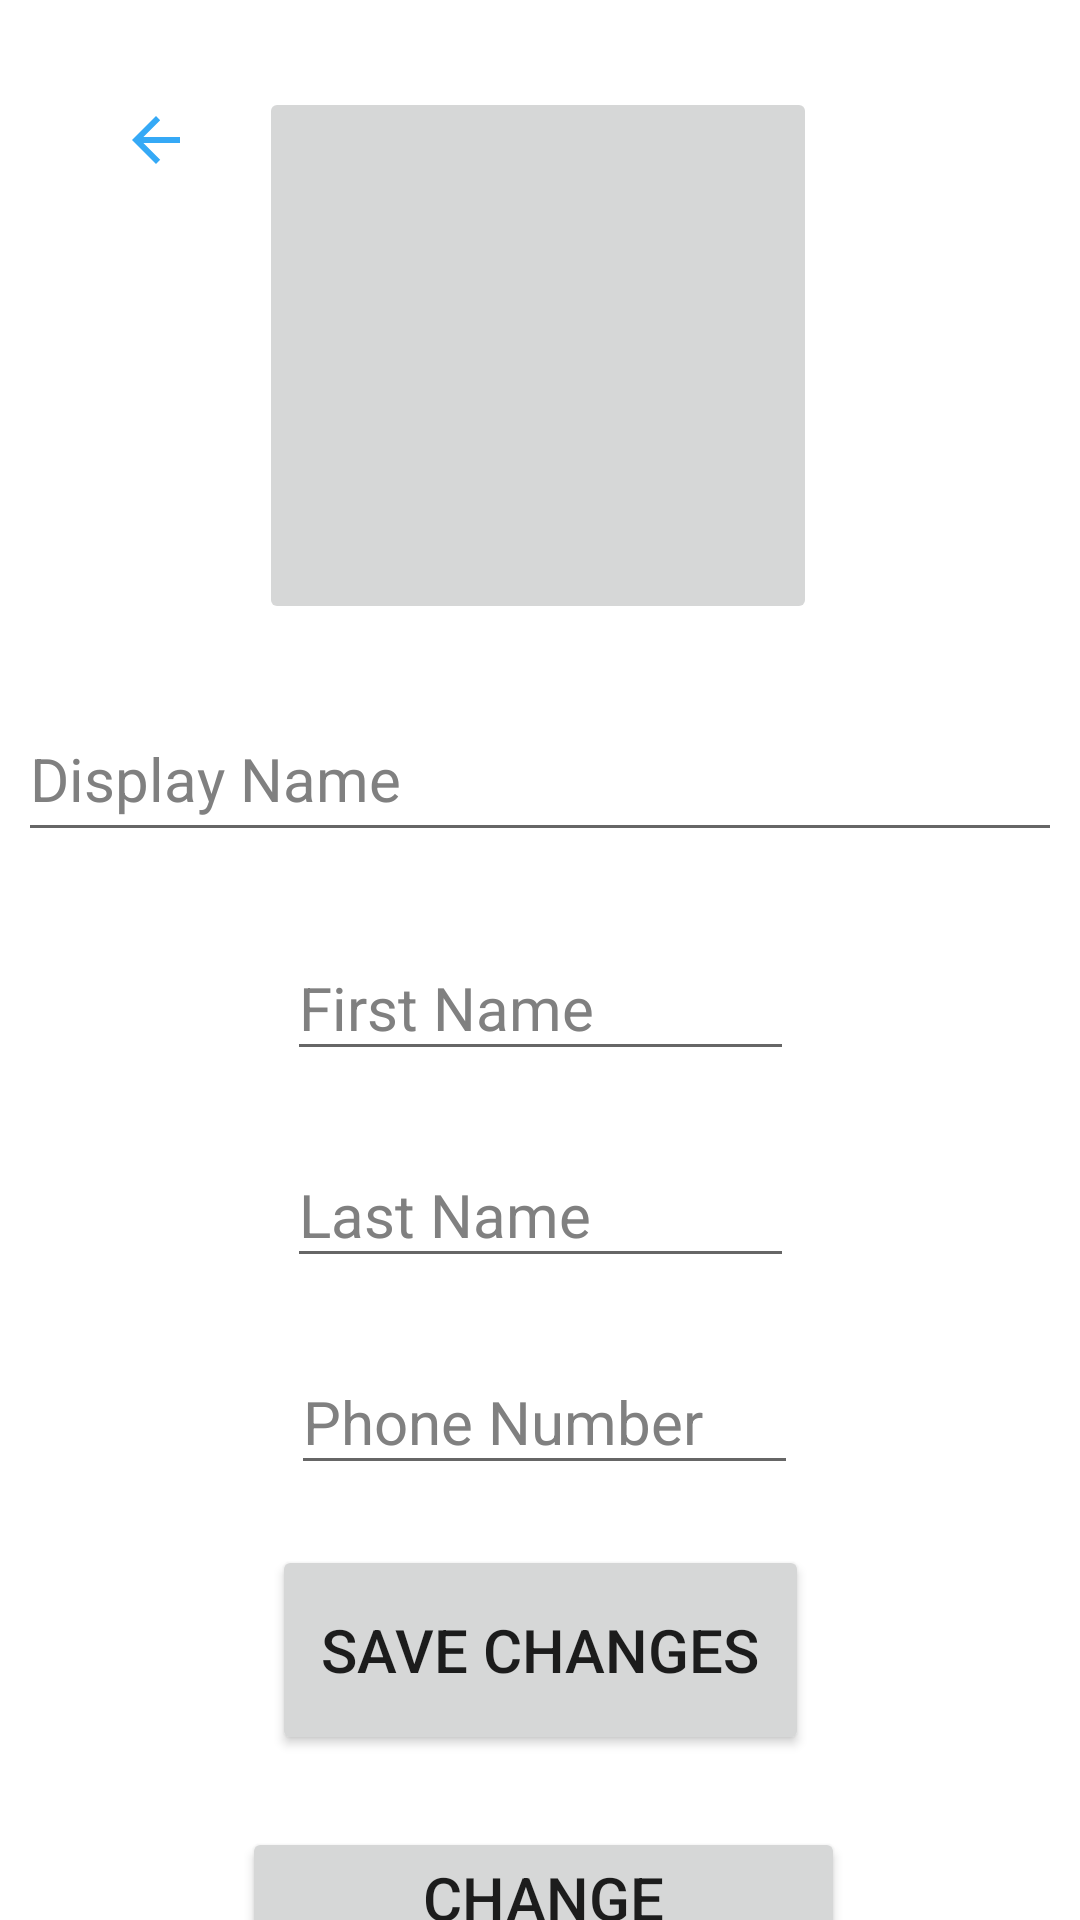

Where to tap for icons on this 1080*1920 app screen, as [x,y]:
back: [156,140]
